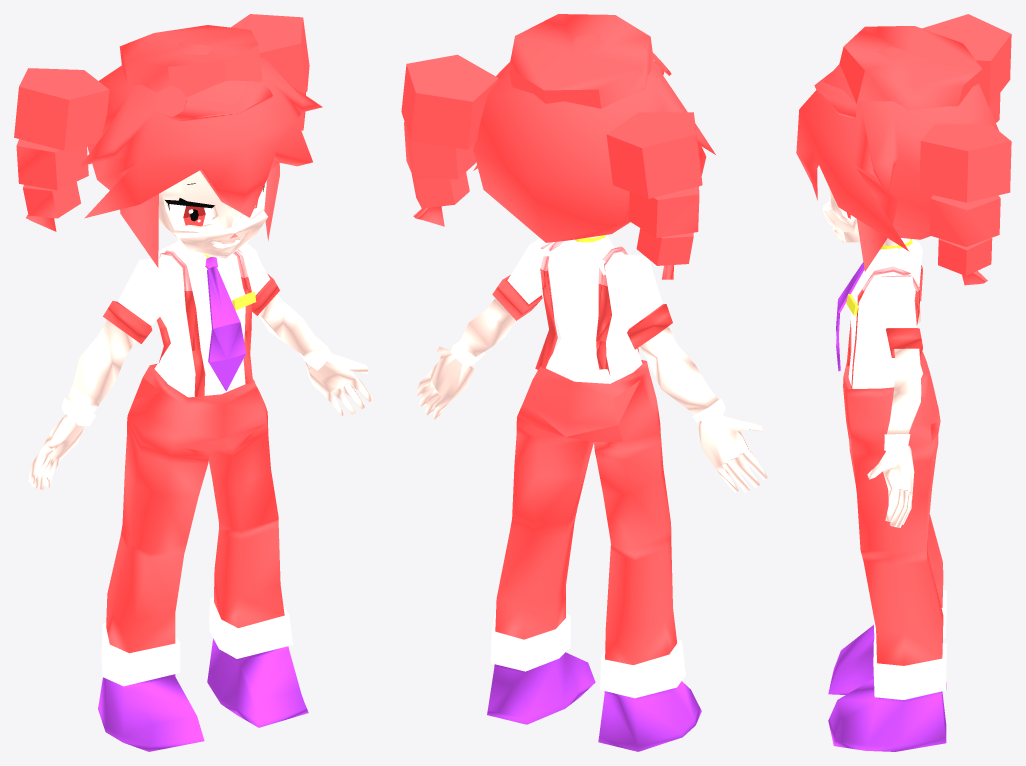
The model's file is pink_mesh.glb.
The picture shows the model from 3 angles, left to right: view 1: azimuth 30°, elevation 25°; view 2: azimuth 150°, elevation 25°; view 3: azimuth 270°, elevation 25°; orthographic projection. The views are drawn at different scales.
Parts seen in each view (by area): view 1: bc-body.tetomez, h-base-t.001, h-drill.001, bc-arms.teto.mesmerizer, bc-hat.tetomez, head.base, bc-hand.tetmezm, bc-tie.neru.001, bc-braces.tetomez.001, bc-braces.tetomez, bc-necklace.mezm; view 2: bc-body.tetomez, h-drill.001, h-base-t.001, bc-arms.teto.mesmerizer, bc-hat.tetomez, bc-hand.tetmezm, bc-braces.tetomez.001, bc-braces.tetomez, bc-necklace.mezm; view 3: bc-body.tetomez, h-base-t.001, h-drill.001, bc-hat.tetomez, bc-arms.teto.mesmerizer, bc-hand.tetmezm, head.base, bc-necklace.mezm, bc-braces.tetomez, bc-tie.neru.001.
Boxes of the visible parts, <box> form: bc-body.tetomez: <box>98,242,308,751</box>; h-base-t.001: <box>80,43,322,267</box>; h-drill.001: <box>14,14,309,231</box>; bc-arms.teto.mesmerizer: <box>61,243,331,426</box>; bc-hat.tetomez: <box>119,25,272,121</box>; head.base: <box>158,170,267,258</box>; bc-hand.tetmezm: <box>28,353,372,489</box>; bc-tie.neru.001: <box>205,257,246,390</box>; bc-braces.tetomez.001: <box>156,250,205,396</box>; bc-braces.tetomez: <box>233,250,252,383</box>; bc-necklace.mezm: <box>172,240,224,274</box>; bc-body.tetomez: <box>487,242,701,751</box>; h-drill.001: <box>401,54,702,279</box>; h-base-t.001: <box>473,33,715,242</box>; bc-arms.teto.mesmerizer: <box>450,238,725,423</box>; bc-hat.tetomez: <box>509,14,671,108</box>; bc-hand.tetmezm: <box>416,347,767,492</box>; bc-braces.tetomez.001: <box>596,246,639,375</box>; bc-braces.tetomez: <box>535,241,564,369</box>; bc-necklace.mezm: <box>563,235,617,255</box>; bc-body.tetomez: <box>828,242,946,751</box>; h-base-t.001: <box>796,47,998,271</box>; h-drill.001: <box>919,14,1011,285</box>; bc-hat.tetomez: <box>814,26,982,117</box>; bc-arms.teto.mesmerizer: <box>876,265,922,450</box>; bc-hand.tetmezm: <box>867,445,914,527</box>; head.base: <box>822,186,888,242</box>; bc-necklace.mezm: <box>868,239,922,267</box>; bc-braces.tetomez: <box>851,266,920,388</box>; bc-tie.neru.001: <box>836,262,864,371</box>.
Size of the model in its own units: 0.7391 by 1.37 by 0.4035.
Materials: 1 (1 with a texture image).
